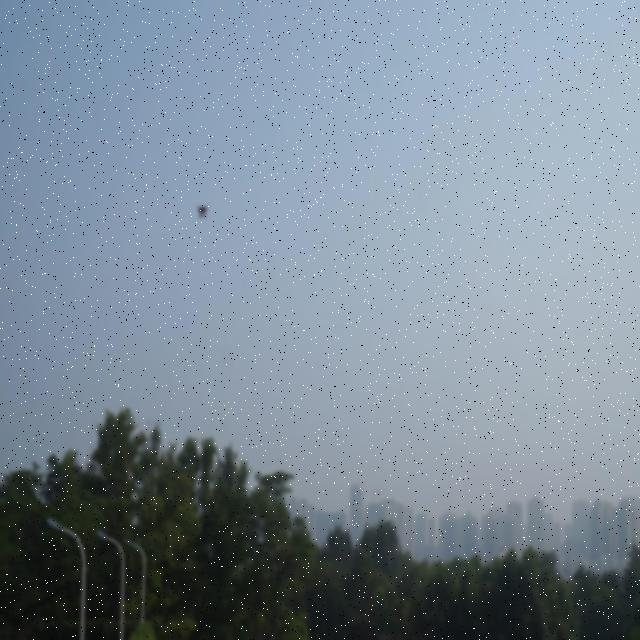UAV: (197, 204, 208, 219)
